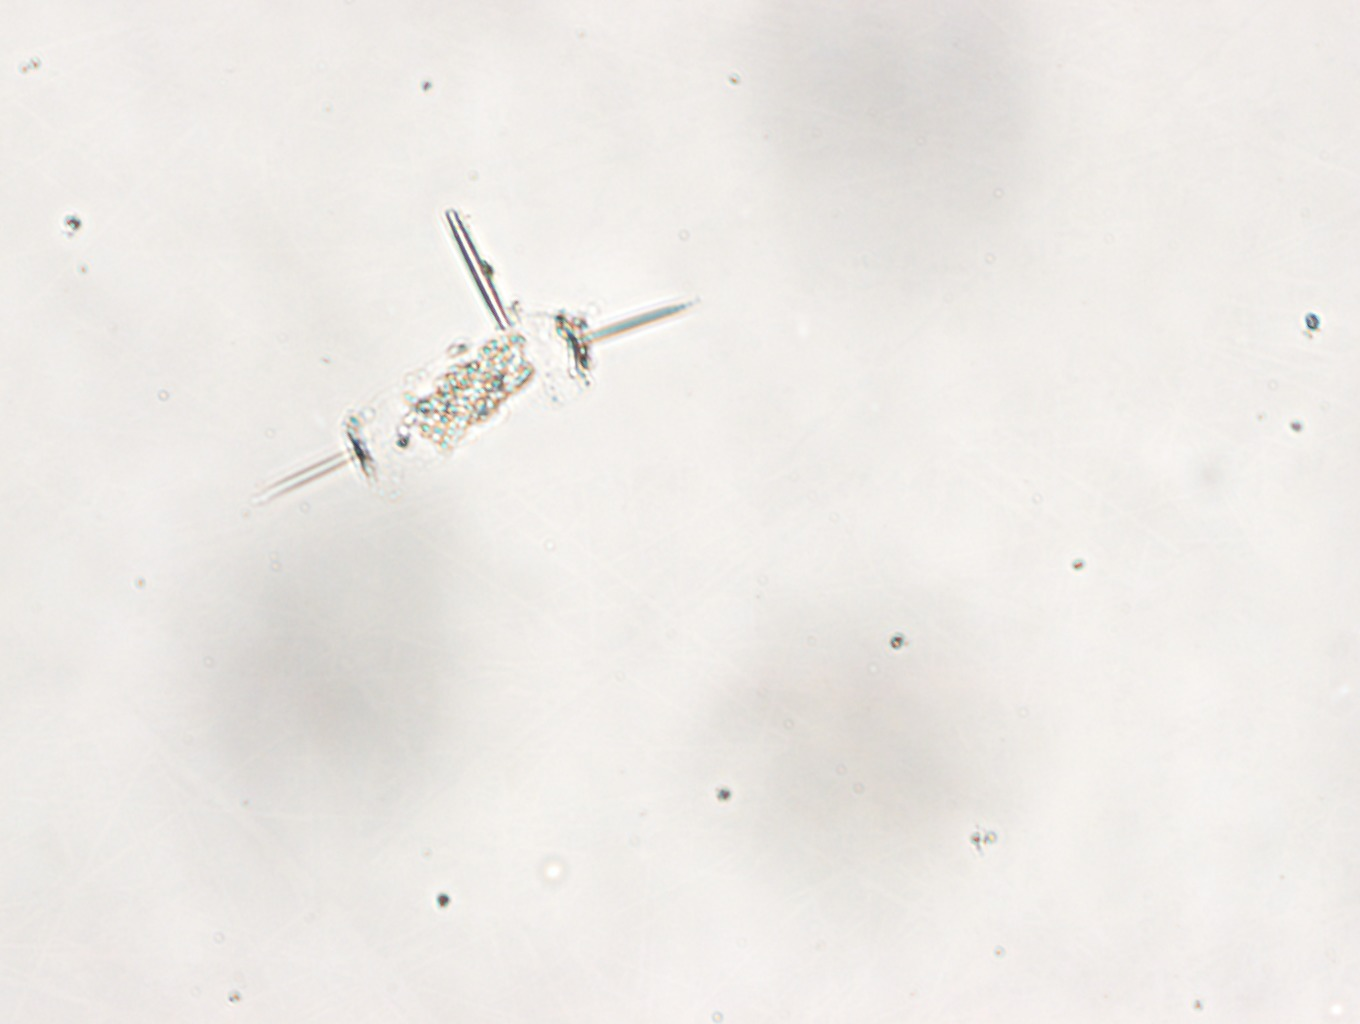ditylum: (237, 291, 707, 517)
